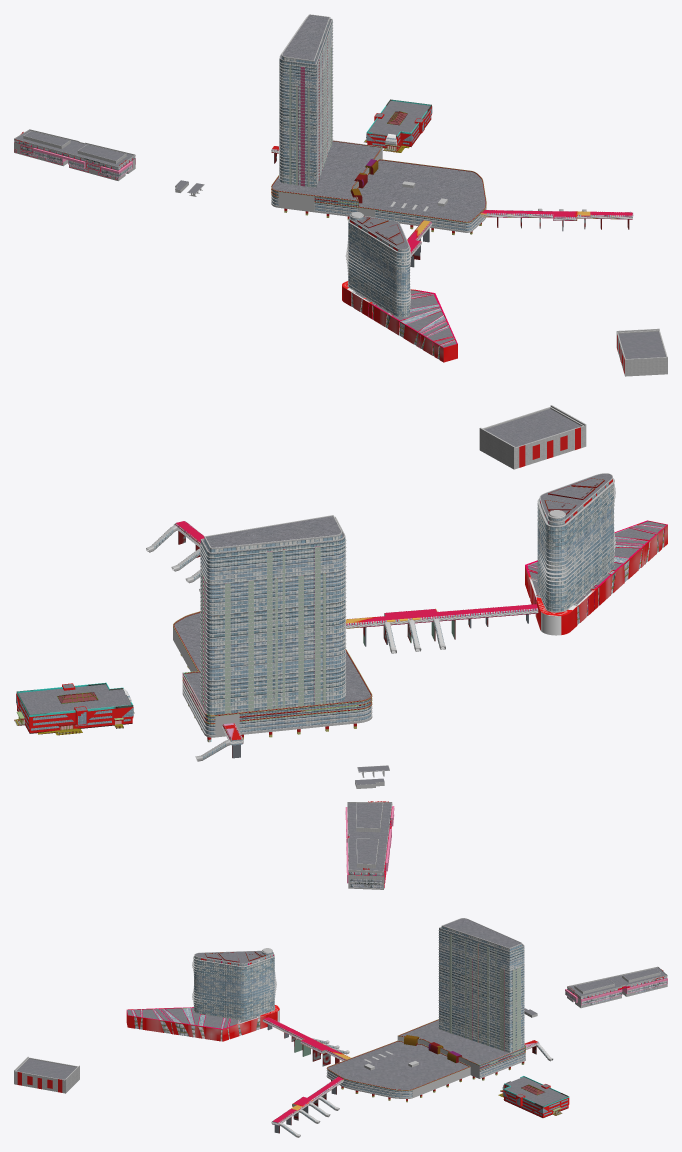
File: MODEL_HUB.fbx
3 renders of one model, top to bottom at view 1: azimuth 30°, elevation 25°; view 2: azimuth 150°, elevation 25°; view 3: azimuth 270°, elevation 25°, orthographic. The views are drawn at different scales.
Parts seen in each view (by area): view 1: SM_Hub_Building2, SM_Hub_Building1, SM_PR_VegaTC, PZ_TC_F1, SM_PR_Building_Energo, SM_RailroadOverpass_01, SM_RailroadOverpass_02; view 2: SM_Hub_Building2, SM_Hub_Building1, PZ_TC_F1, SM_PR_Building_Energo, SM_PR_VegaTC, SM_RailroadOverpass_02, SM_RailroadOverpass_01; view 3: SM_Hub_Building2, SM_Hub_Building1, SM_PR_VegaTC, PZ_TC_F1, SM_PR_Building_Energo, SM_RailroadOverpass_02, SM_RailroadOverpass_01.
Part boxes in pixels (x1,y1,x2,y2): SM_Hub_Building2: [271, 14, 486, 234]; SM_Hub_Building1: [342, 212, 457, 362]; SM_PR_VegaTC: [14, 129, 135, 180]; PZ_TC_F1: [364, 99, 432, 152]; SM_PR_Building_Energo: [616, 328, 667, 376]; SM_RailroadOverpass_01: [480, 208, 633, 231]; SM_RailroadOverpass_02: [407, 220, 432, 267]; SM_Hub_Building2: [173, 515, 372, 742]; SM_Hub_Building1: [525, 473, 667, 635]; PZ_TC_F1: [14, 682, 134, 735]; SM_PR_Building_Energo: [479, 405, 586, 469]; SM_PR_VegaTC: [345, 801, 394, 889]; SM_RailroadOverpass_02: [345, 604, 538, 653]; SM_RailroadOverpass_01: [146, 521, 204, 592]; SM_Hub_Building2: [326, 918, 525, 1102]; SM_Hub_Building1: [126, 948, 279, 1041]; SM_PR_VegaTC: [565, 966, 667, 1008]; PZ_TC_F1: [498, 1076, 569, 1117]; SM_PR_Building_Energo: [14, 1056, 79, 1093]; SM_RailroadOverpass_02: [262, 1017, 350, 1066]; SM_RailroadOverpass_01: [271, 1076, 343, 1137].
Size of the model in its own units: 418 by 155 by 721.
